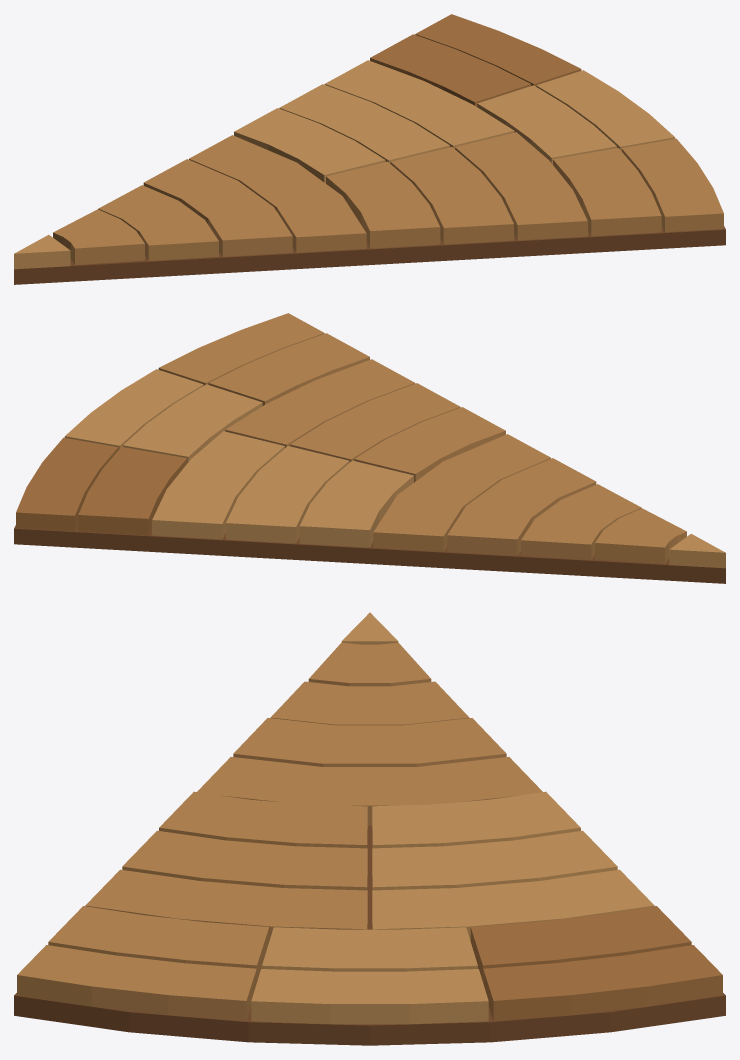
Rendered from mod_floor_sector_r2.51_45.glb.
The picture shows the model from 3 angles, top to bottom: view 1: azimuth 30°, elevation 25°; view 2: azimuth 150°, elevation 25°; view 3: azimuth 270°, elevation 25°; orthographic projection. The views are drawn at different scales.
Parts seen in each view (by area): view 1: mod_floor_sector_r2.51_45; view 2: mod_floor_sector_r2.51_45; view 3: mod_floor_sector_r2.51_45.
Part boxes in pixels (bbox=[...]): mod_floor_sector_r2.51_45: bbox=[14, 14, 725, 284]; mod_floor_sector_r2.51_45: bbox=[14, 313, 725, 583]; mod_floor_sector_r2.51_45: bbox=[14, 612, 725, 1045].
Bounding box in the file's own units: 2.51 × 0.128 × 1.92.
